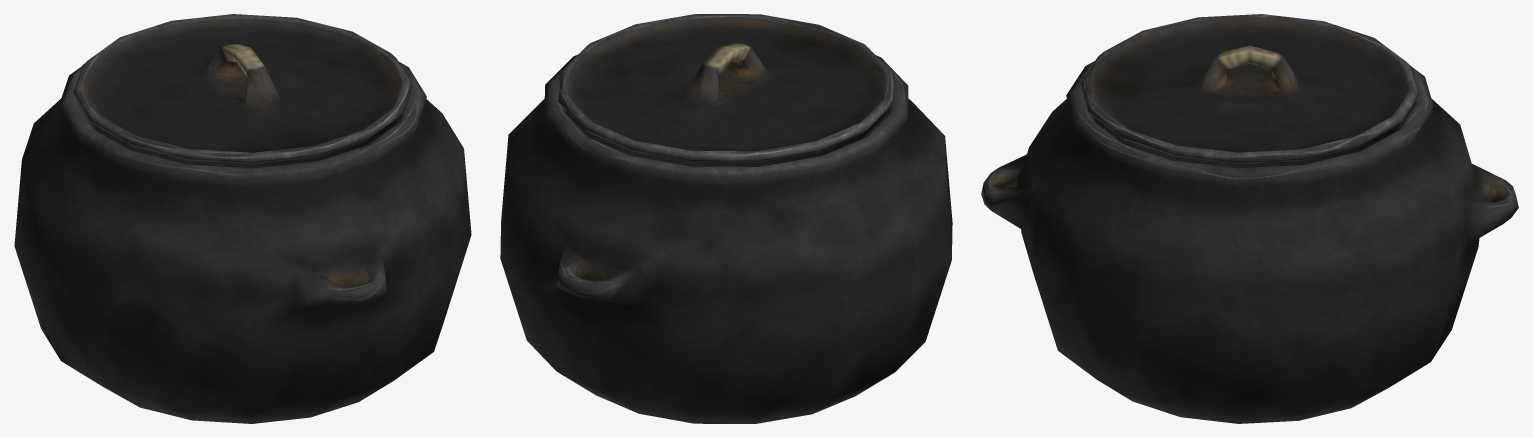
Rendered from Crock.fbx.
3 renders of one model, left to right at view 1: azimuth 30°, elevation 25°; view 2: azimuth 150°, elevation 25°; view 3: azimuth 270°, elevation 25°, orthographic.
Parts seen in each view (by area): view 1: U_Crock, U_CrockLid; view 2: U_Crock, U_CrockLid; view 3: U_Crock, U_CrockLid.
Part boxes in pixels (x1,y1,x2,y2): U_Crock: (14,61,471,423); U_CrockLid: (73,14,412,164); U_Crock: (500,54,952,423); U_CrockLid: (558,14,894,162); U_Crock: (981,61,1518,423); U_CrockLid: (1080,14,1419,163).
Bounding box in the file's own units: 90.35 × 67.43 × 106.
Materials: 1 (1 with a texture image).
